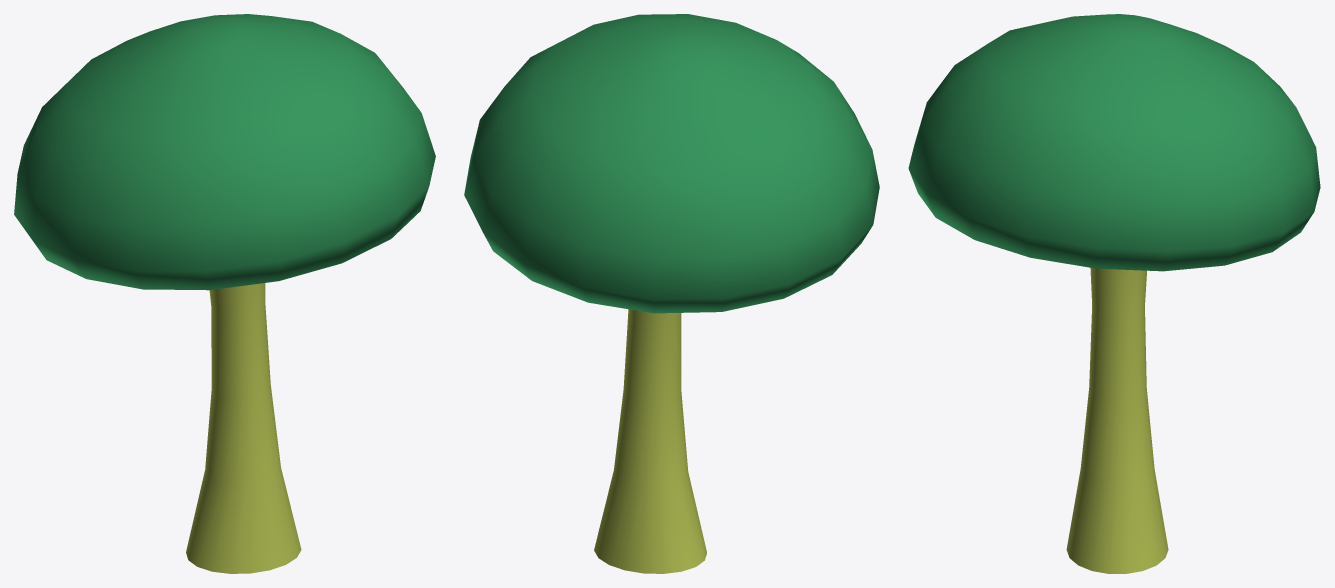
The picture shows the model from 3 angles, left to right: view 1: azimuth 30°, elevation 25°; view 2: azimuth 150°, elevation 25°; view 3: azimuth 270°, elevation 25°; orthographic projection. The views are drawn at different scales.
Parts seen in each view (by area): view 1: Cylinder047, Cylinder048; view 2: Cylinder047, Cylinder048; view 3: Cylinder047, Cylinder048.
Part boxes in pixels (<box>): Cylinder047: <box>14,14,435,290</box>; Cylinder048: <box>186,283,301,573</box>; Cylinder047: <box>464,14,879,313</box>; Cylinder048: <box>594,309,706,573</box>; Cylinder047: <box>908,14,1320,271</box>; Cylinder048: <box>1066,267,1168,573</box>.
Bounding box in the file's own units: 319 × 438 × 319.
